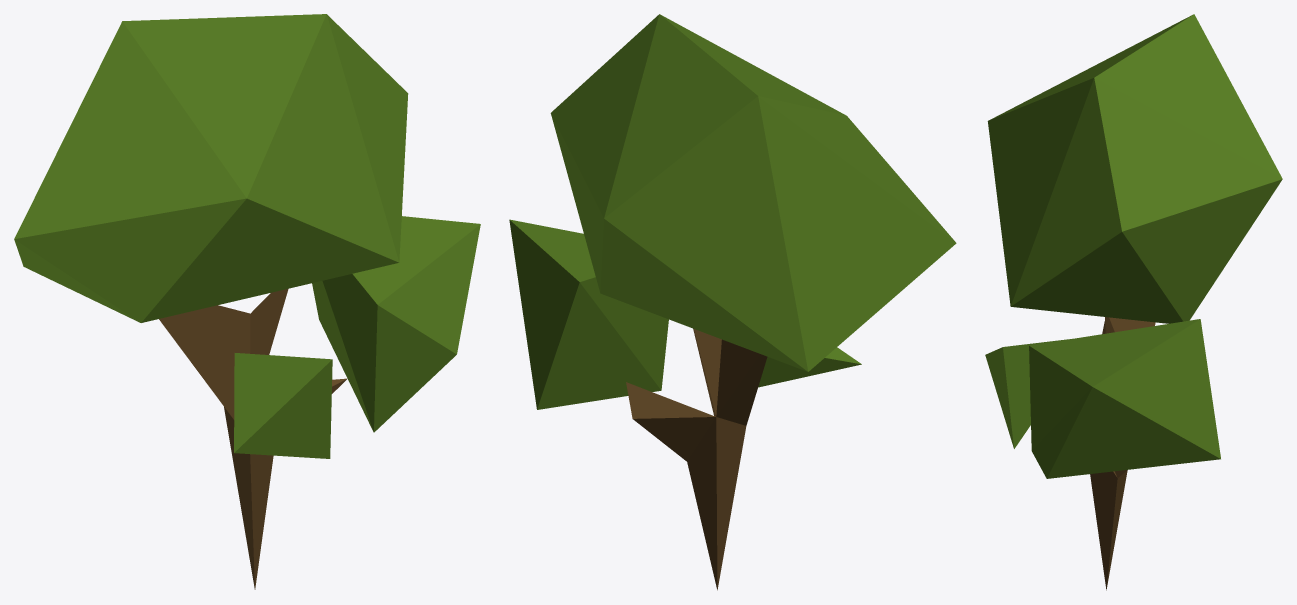
3 renders of one model, left to right at view 1: azimuth 30°, elevation 25°; view 2: azimuth 150°, elevation 25°; view 3: azimuth 270°, elevation 25°, orthographic. The views are drawn at different scales.
Visible parts, largest first — view 1: Tree1_1; view 2: Tree1_1; view 3: Tree1_1.
Boxes of the visible parts, x1,y1,x2,y2 form: Tree1_1: [14, 14, 480, 589]; Tree1_1: [509, 14, 956, 590]; Tree1_1: [985, 14, 1282, 590].
Size of the model in its own units: 6.15 by 7.21 by 3.58.
